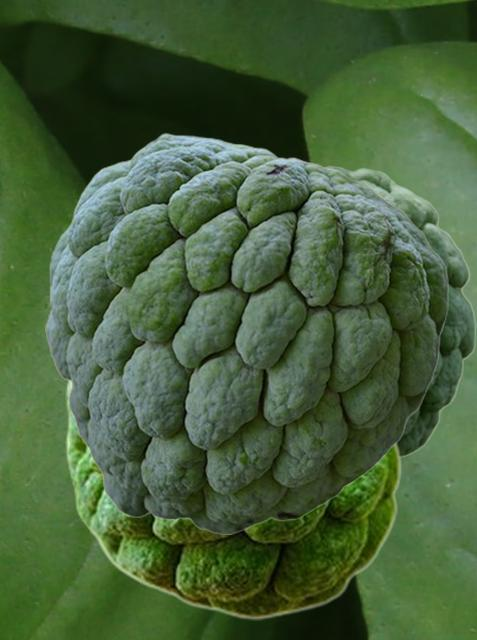atis: (45, 133, 448, 533), (65, 380, 401, 619), (304, 160, 475, 459)
